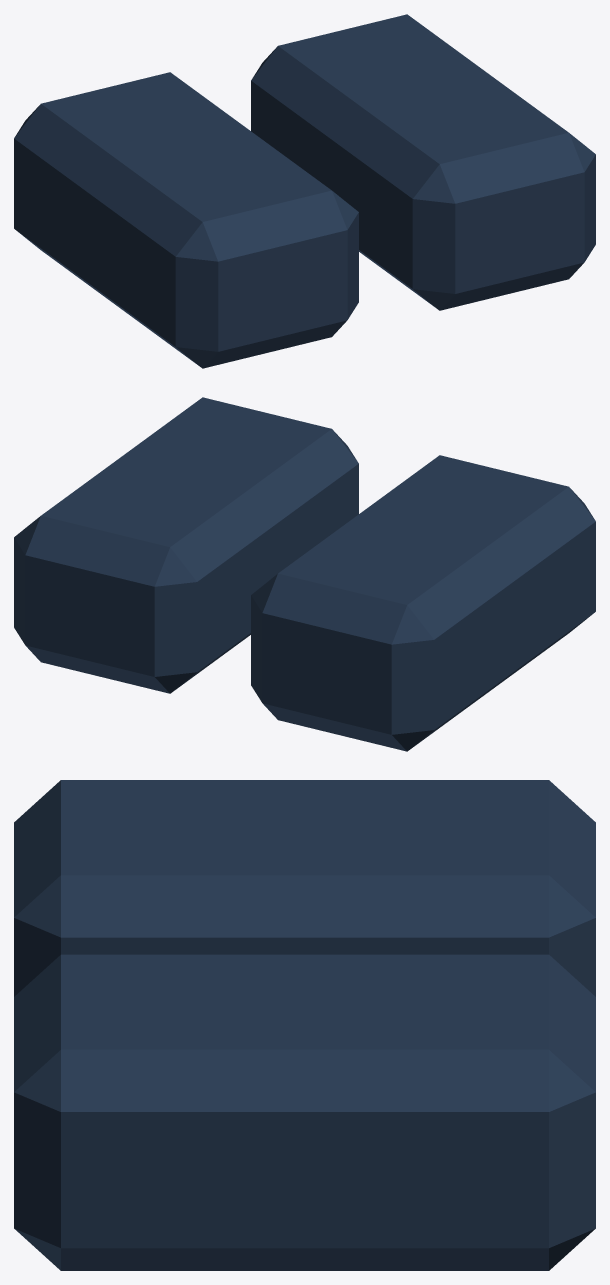
The model's file is Modular_Shoes.fbx.
3 views of the same model, one above another, from view 1: azimuth 30°, elevation 25°; view 2: azimuth 150°, elevation 25°; view 3: azimuth 270°, elevation 25° (orthographic). The views are drawn at different scales.
Visible parts, largest first — view 1: Shoe.026, Shoe.027; view 2: Shoe.026, Shoe.027; view 3: Shoe.027, Shoe.026.
Boxes of the visible parts, left/top/right/bottom form: Shoe.026: left=14, top=72, right=358, bottom=368; Shoe.027: left=251, top=14, right=595, bottom=310; Shoe.026: left=251, top=455, right=595, bottom=751; Shoe.027: left=14, top=397, right=358, bottom=693; Shoe.027: left=14, top=954, right=595, bottom=1270; Shoe.026: left=14, top=780, right=595, bottom=996.
Bounding box in the file's own units: 0.39 × 0.13 × 0.31.
